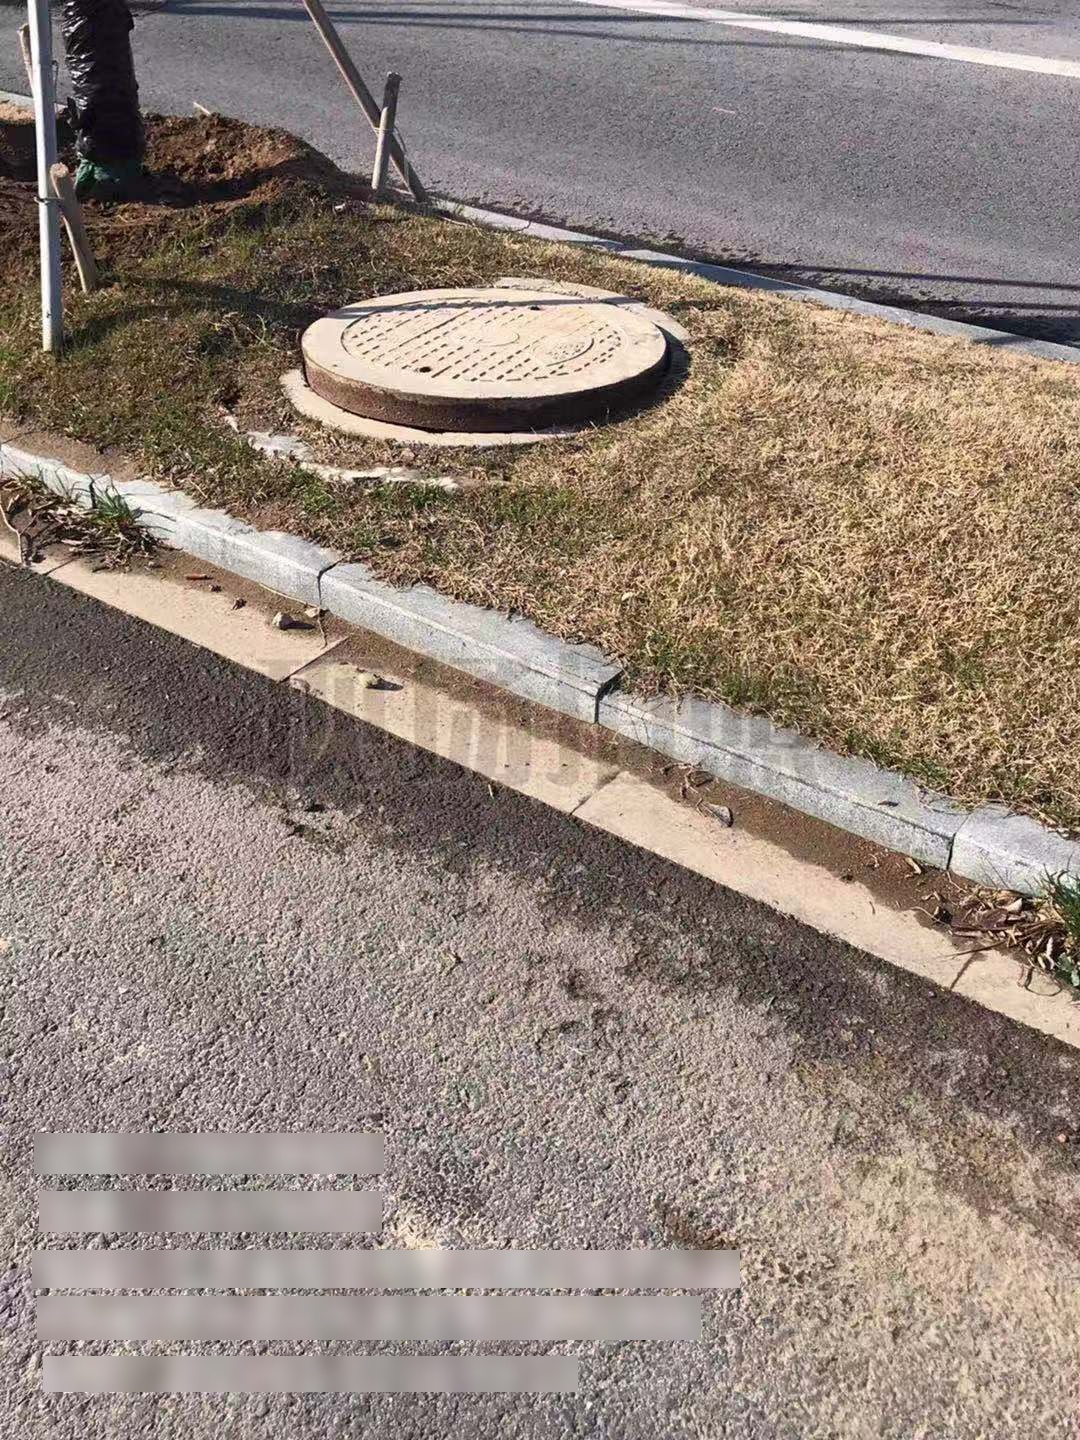uncovered: (282, 278, 675, 447)
